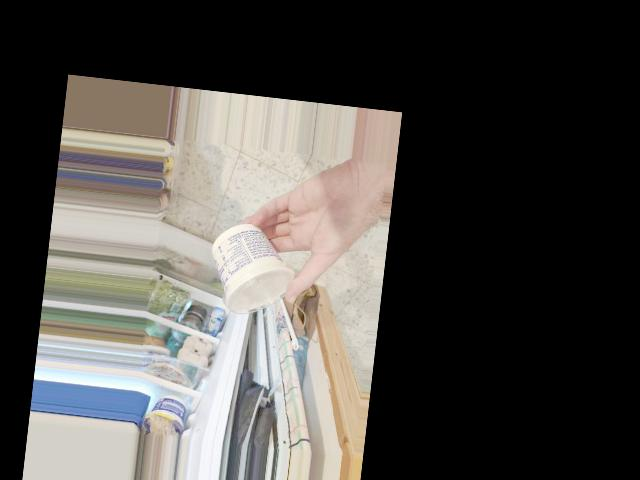cotage: (208, 229, 293, 319)
